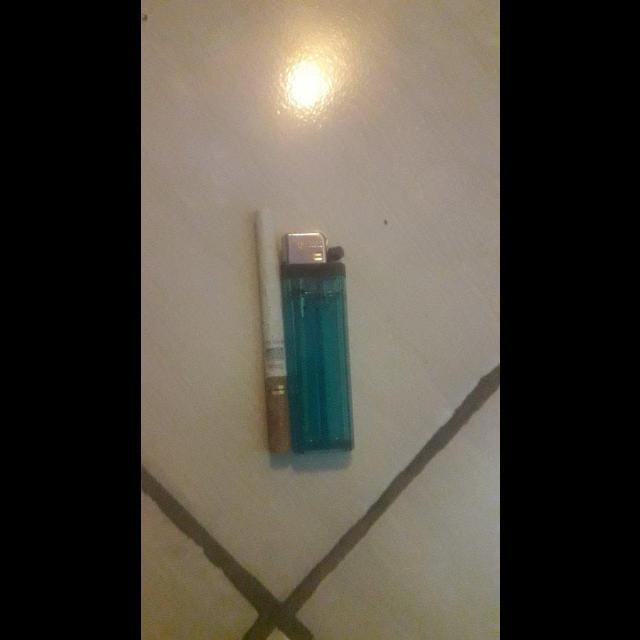rokok: (250, 206, 296, 456)
